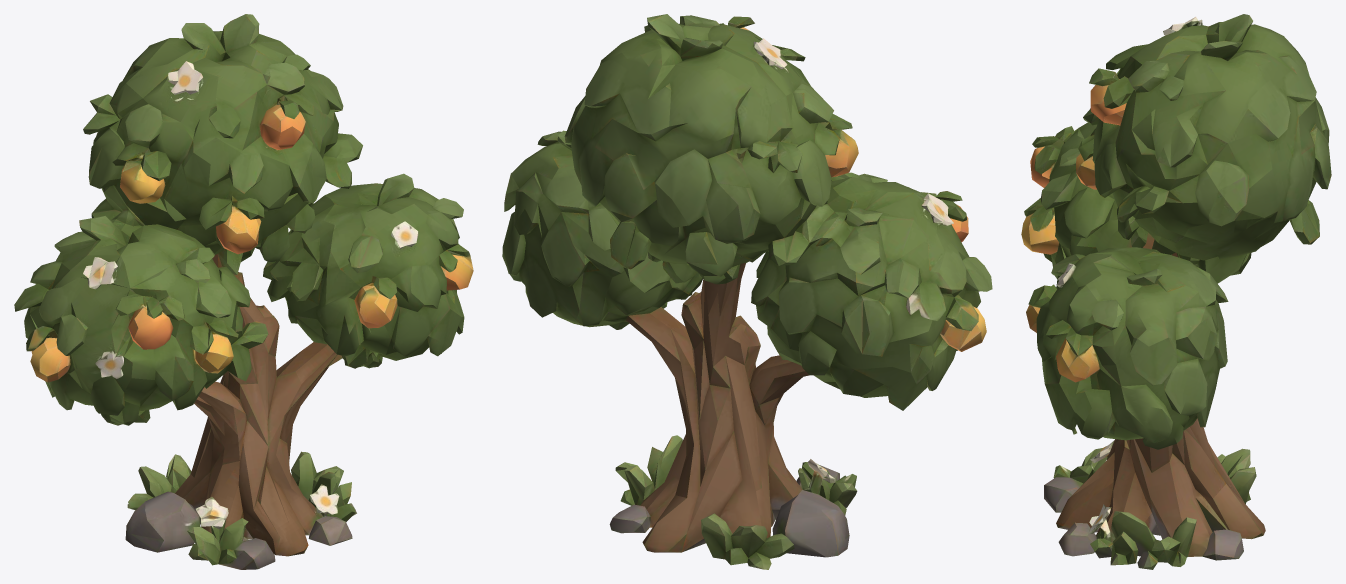
File: model-village-fruitTree-6be0a701d305.glb
3 views of the same model, side by side, from view 1: azimuth 30°, elevation 25°; view 2: azimuth 150°, elevation 25°; view 3: azimuth 270°, elevation 25° (orthographic). The views are drawn at different scales.
Parts seen in each view (by area): view 1: Mesh_0; view 2: Mesh_0; view 3: Mesh_0.
Boxes of the visible parts, x1,y1,x2,y2 form: Mesh_0: (14, 14, 473, 569); Mesh_0: (502, 14, 992, 569); Mesh_0: (1021, 14, 1331, 569).
Bounding box in the file's own units: 1.2 × 1.26 × 0.7106.
1 material, 1 textured.
